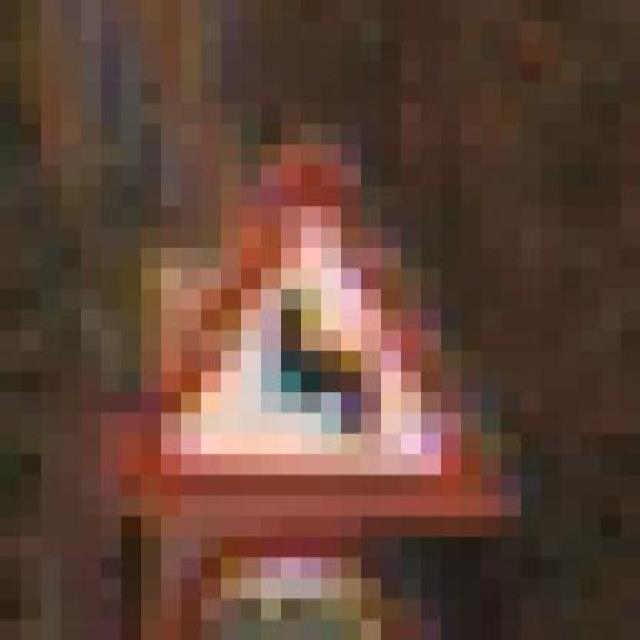Left Zig Zag Traffic: (98, 103, 538, 537)
